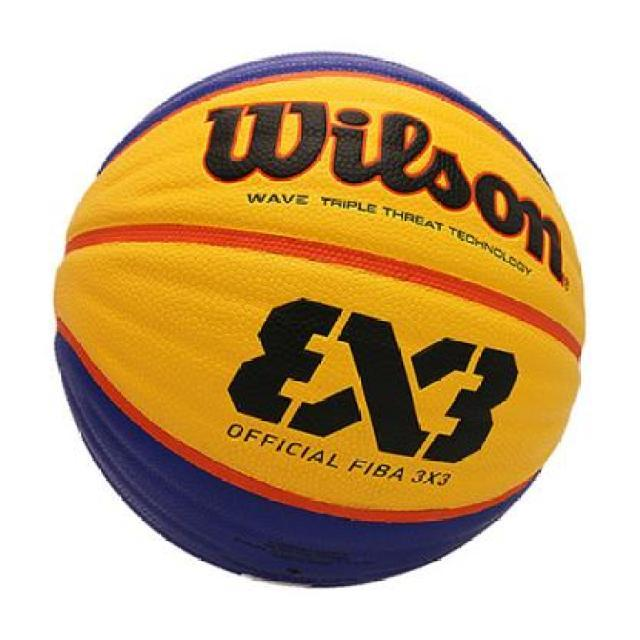basketball: (57, 51, 585, 590)
